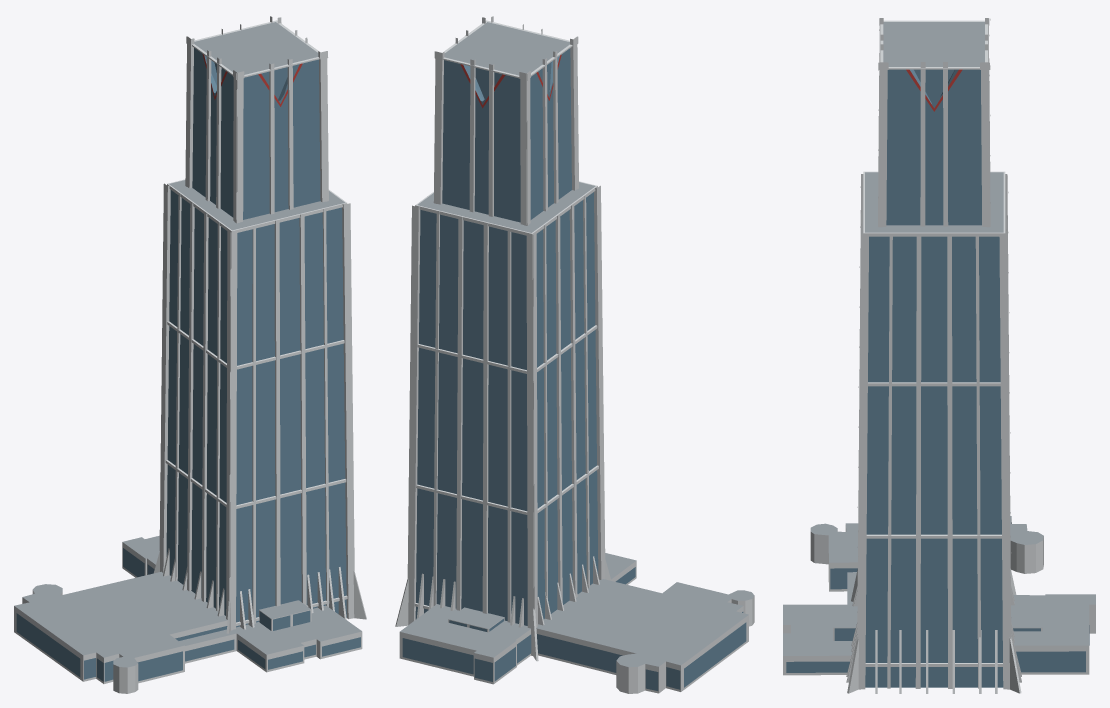
File: osaka-cosmo-tower.glb
3 renders of one model, left to right at view 1: azimuth 30°, elevation 25°; view 2: azimuth 150°, elevation 25°; view 3: azimuth 270°, elevation 25°, orthographic. The views are drawn at different scales.
Parts seen in each view (by area): view 1: Sakishima Cosmo Tower; view 2: Sakishima Cosmo Tower; view 3: Sakishima Cosmo Tower.
Boxes of the visible parts, x1,y1,x2,y2 form: Sakishima Cosmo Tower: (14,16,366,693); Sakishima Cosmo Tower: (395,16,754,693); Sakishima Cosmo Tower: (783,18,1095,693).
Bounding box in the file's own units: 133 × 256 × 118.
